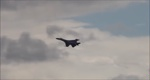maybay_muctieu: (58, 37, 81, 50)
